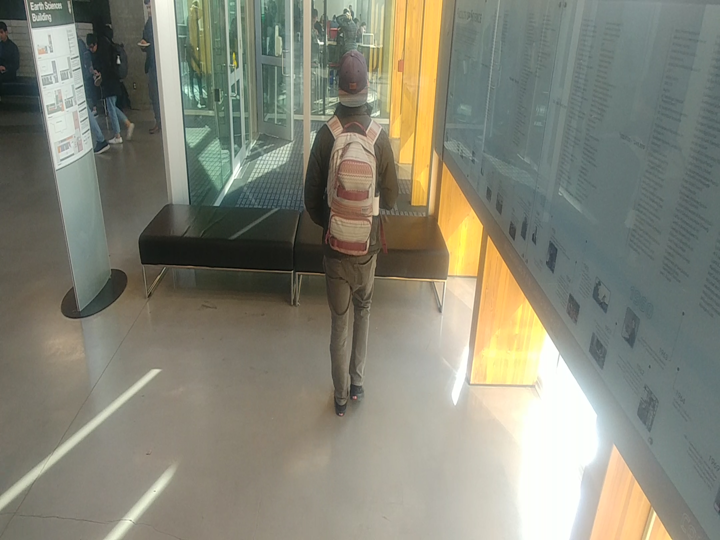face: (331, 44, 378, 124), (90, 12, 111, 41), (80, 29, 99, 57), (336, 5, 356, 27), (0, 20, 13, 46)
human: (295, 48, 404, 420), (88, 8, 138, 151), (0, 15, 23, 108), (332, 3, 365, 55)
